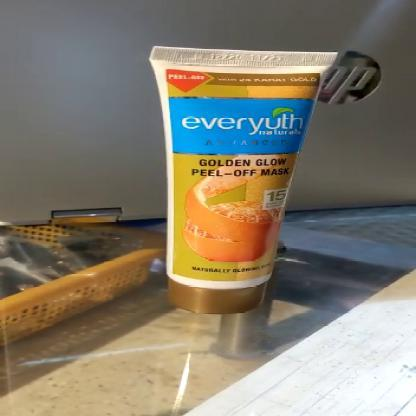EY ADVANCED GOLDEN GLOW PEEL OFF M- 90G: (144, 44, 338, 314)
